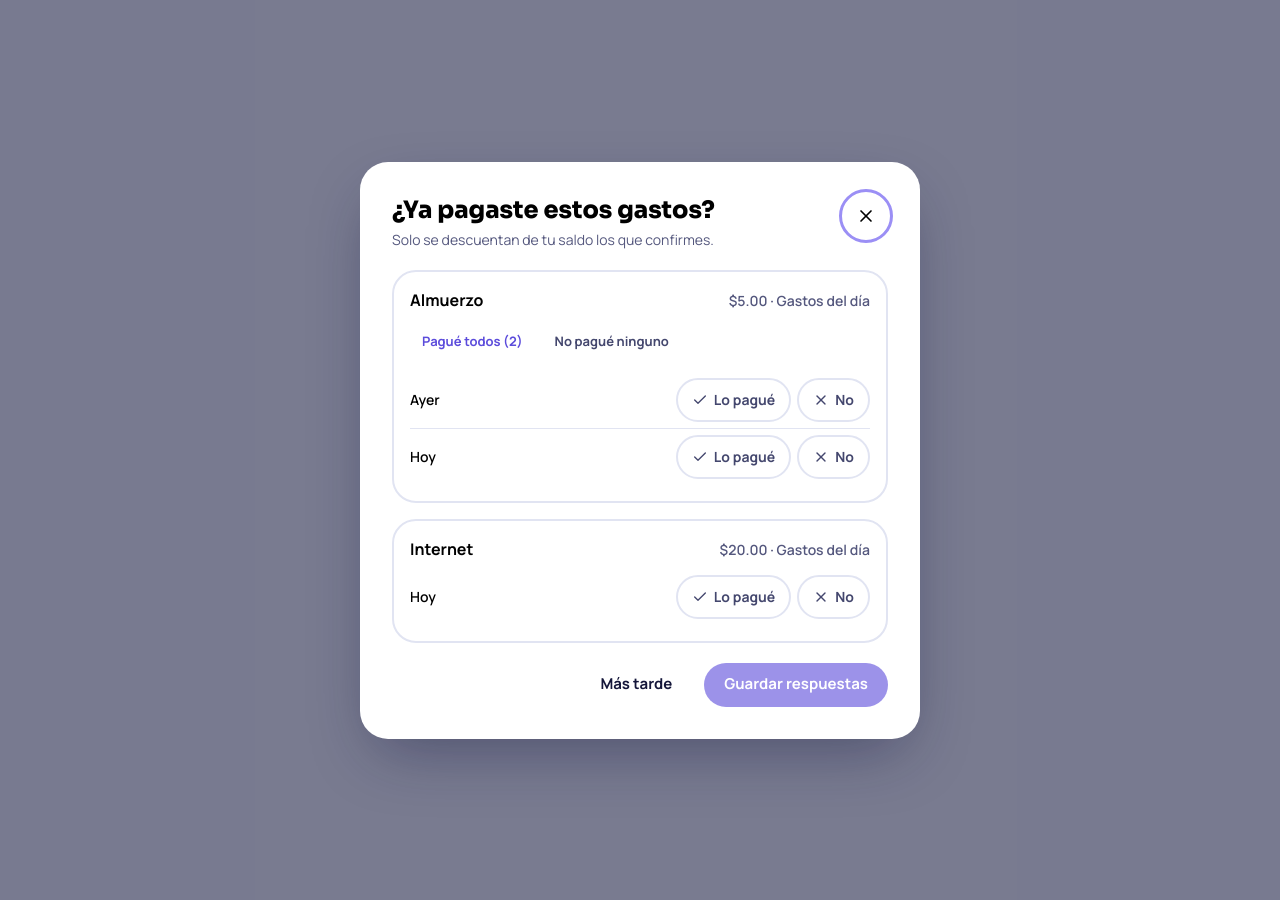
Test: CheckInPrompt › keeps asking about what was left unanswered
This screenshot has width=1280, height=900.
Click the 2nd button "Lo pagué" at (734, 456), box x1=676 y1=434 x2=791 y2=478
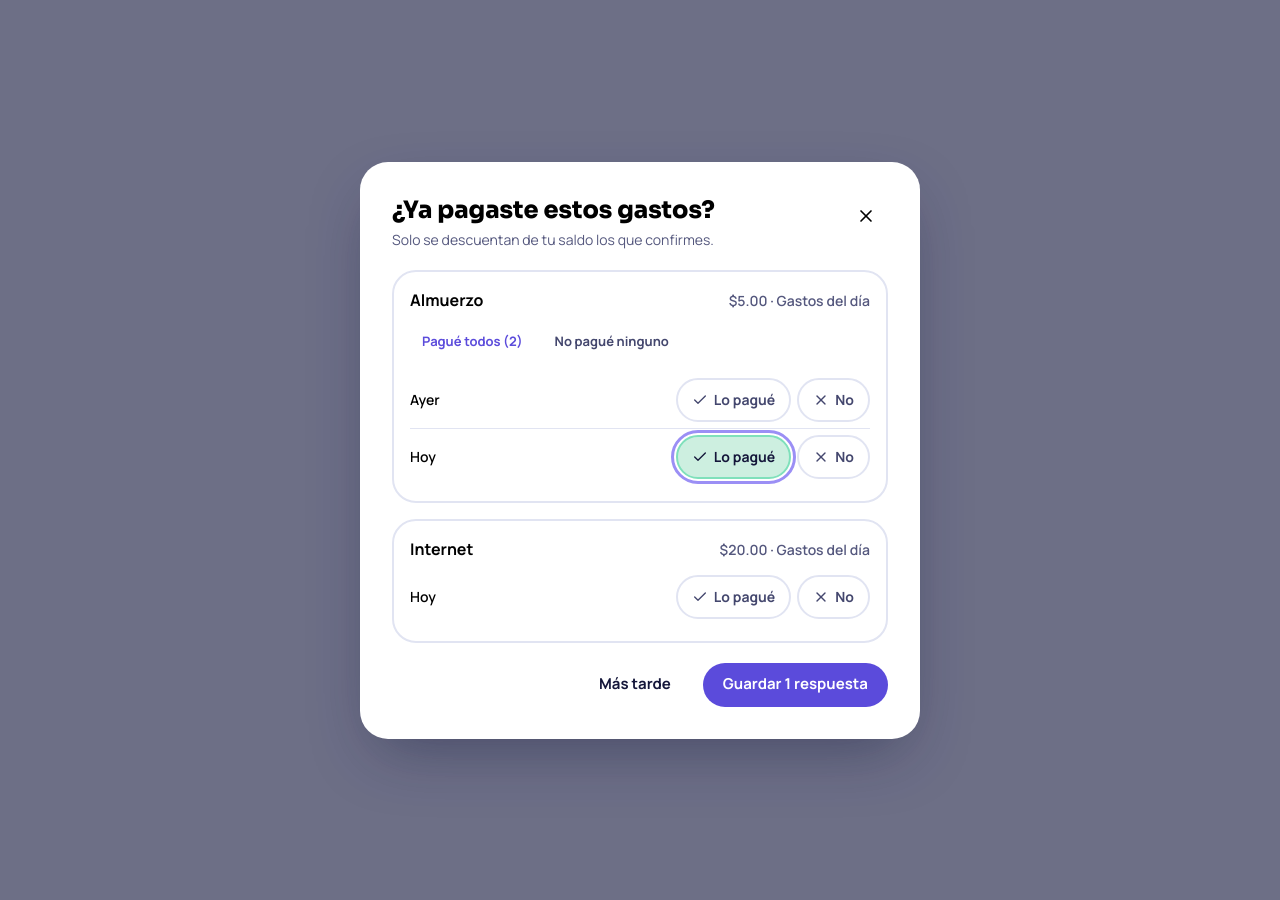
Click the button "Guardar 1 respuesta" at (795, 684), box x1=703 y1=662 x2=888 y2=706
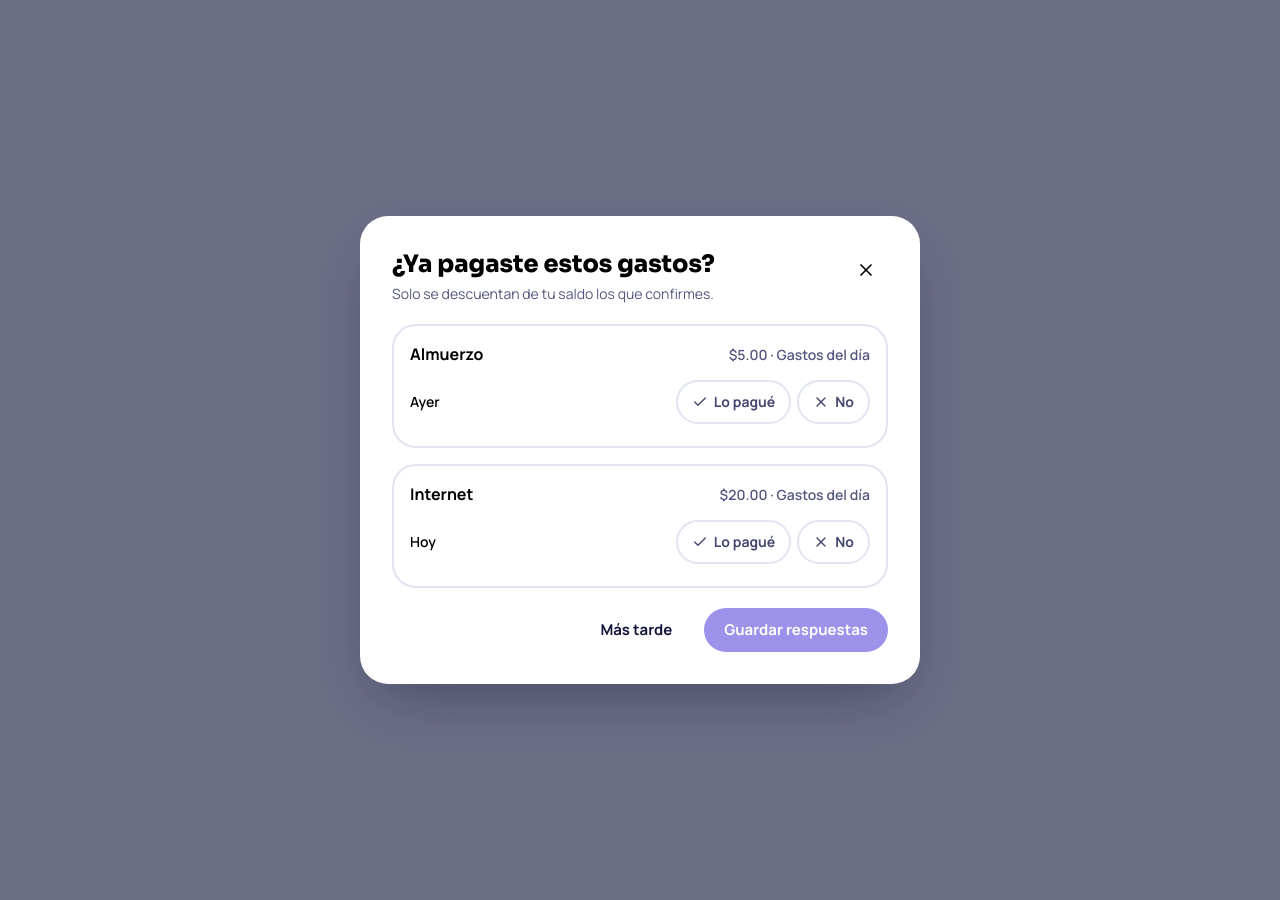
Expected: the element named "Ayer · Almuerzo" is shown, x1=410 y1=380 x2=870 y2=424
Expected: the element named "Hoy · Internet" is shown, x1=410 y1=520 x2=870 y2=564
